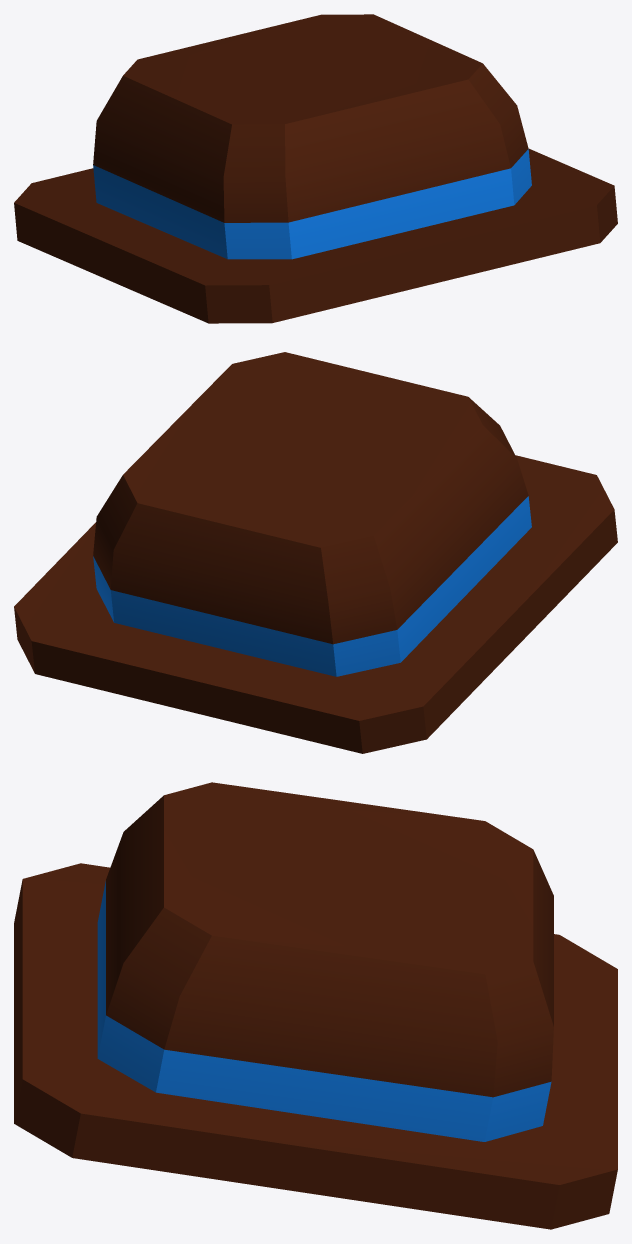
File: Hat 03.FBX
3 renders of one model, top to bottom at view 1: azimuth 30°, elevation 25°; view 2: azimuth 150°, elevation 25°; view 3: azimuth 270°, elevation 25°, orthographic. The views are drawn at different scales.
Parts seen in each view (by area): view 1: Hat 03; view 2: Hat 03; view 3: Hat 03.
Boxes of the visible parts, x1,y1,x2,y2 form: Hat 03: [14, 14, 617, 323]; Hat 03: [14, 352, 617, 753]; Hat 03: [14, 782, 617, 1229].
Bounding box in the file's own units: 79.9 × 39.07 × 81.49.
Materials: 1 (1 with a texture image).
